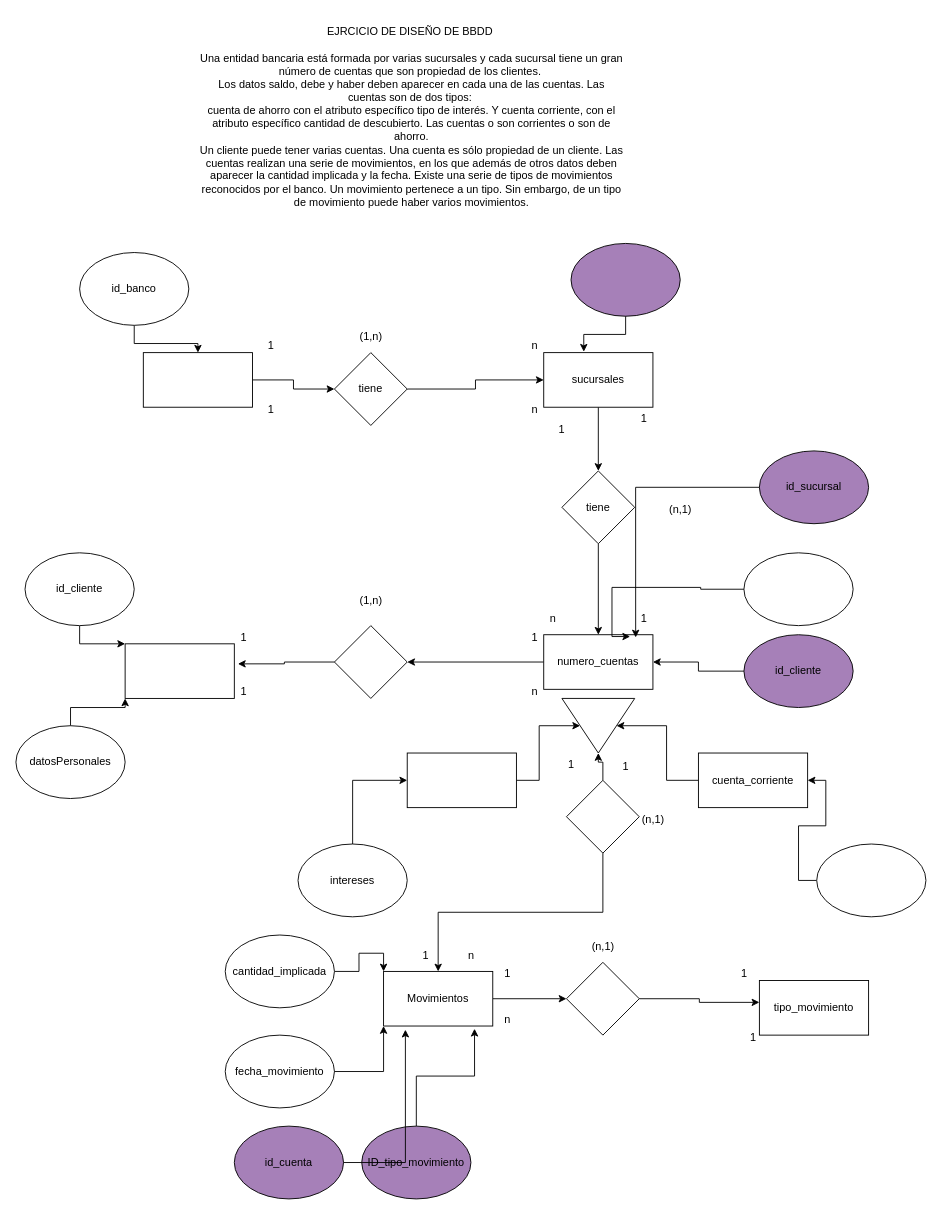
This 942x1215 diagram has some shape labels left out. The shapes that lost their labels are listed below. From the top down, each one's box as (x1, y1, x2, y2) in pixels, then its label:
(570, 243, 680, 316): idsucursal
(142, 352, 253, 407): entidad_bancaria
(743, 552, 853, 626): saldo
(124, 643, 234, 698): clientes
(334, 625, 407, 698): pertenecen
(406, 752, 516, 808): cuenta_ahorro
(566, 779, 639, 853): realizan
(816, 843, 926, 917): cantidad_descubierto
(566, 961, 639, 1035): pertenece
